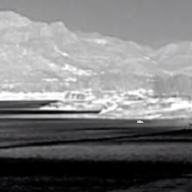Target: (136, 119, 144, 123)
